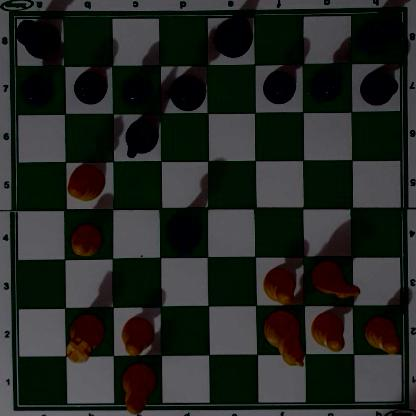black-bishop: (167, 74, 206, 112)
black-king: (212, 15, 253, 58)
black-knight: (123, 115, 159, 158)
black-pawn: (360, 69, 396, 105), (309, 68, 344, 102), (262, 68, 295, 102), (20, 72, 54, 104), (73, 70, 105, 104), (121, 72, 153, 105)
black-queen: (163, 211, 202, 254)
black-rook: (13, 15, 60, 58), (358, 13, 405, 55)
white-bishop: (120, 362, 158, 415), (66, 165, 107, 201)
white-king: (261, 308, 305, 367)
white-knight: (309, 260, 361, 301)
white-pawn: (310, 311, 346, 352), (363, 315, 400, 352), (262, 266, 297, 305), (120, 316, 154, 356), (67, 222, 104, 258)
white-rook: (63, 313, 106, 363)
